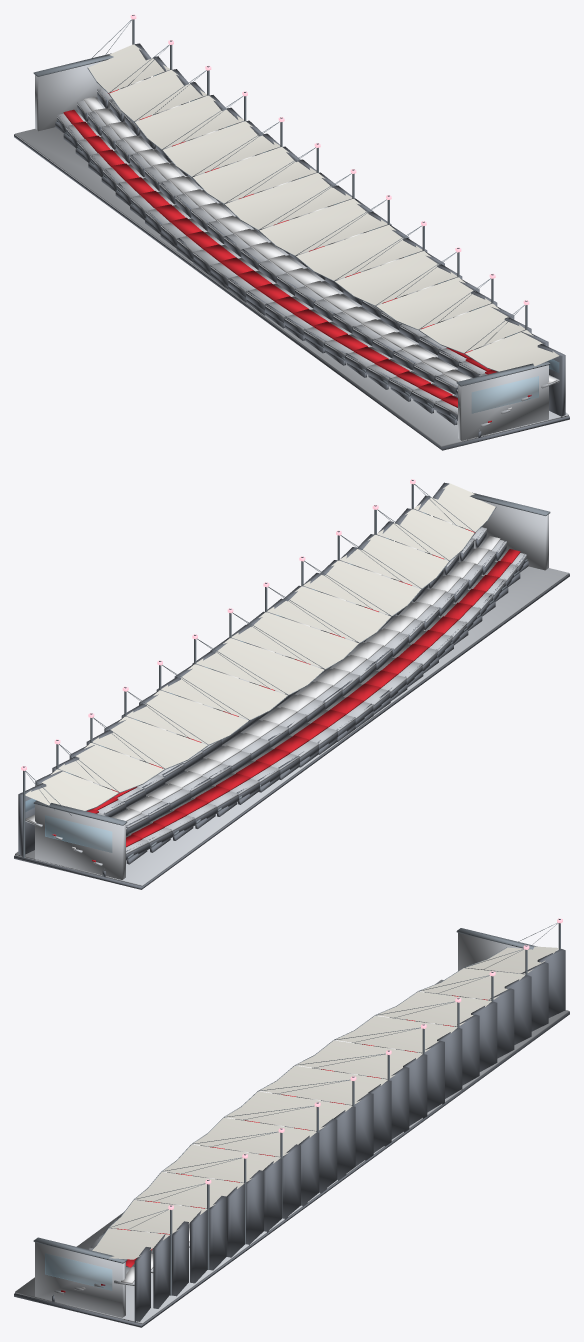
File: luffield_arena_grandstand.glb
3 views of the same model, one above another, from view 1: azimuth 30°, elevation 25°; view 2: azimuth 150°, elevation 25°; view 3: azimuth 330°, elevation 25° (orthographic).
Visible parts, largest first — view 1: Surface_roof, Surface_concrete, Surface_concrete_dark, Surface_seat_a, Surface_seat_b, Surface_steel, Surface_glass; view 2: Surface_roof, Surface_concrete, Surface_concrete_dark, Surface_seat_a, Surface_seat_b, Surface_steel, Surface_glass; view 3: Surface_concrete_dark, Surface_roof, Surface_concrete, Surface_steel, Surface_glass.
Part boxes in pixels (<box>): Surface_roof: <box>88,44,559,371</box>; Surface_concrete: <box>15,61,568,446</box>; Surface_concrete_dark: <box>14,43,569,450</box>; Surface_seat_a: <box>63,89,531,422</box>; Surface_seat_b: <box>83,80,557,409</box>; Surface_steel: <box>33,15,550,431</box>; Surface_glass: <box>154,73,558,413</box>; Surface_roof: <box>25,483,495,810</box>; Surface_concrete: <box>15,500,568,886</box>; Surface_concrete_dark: <box>14,482,569,889</box>; Surface_seat_a: <box>52,528,520,862</box>; Surface_seat_b: <box>26,520,500,849</box>; Surface_steel: <box>23,480,550,870</box>; Surface_glass: <box>25,512,428,852</box>; Surface_concrete_dark: <box>14,949,569,1327</box>; Surface_roof: <box>92,946,558,1259</box>; Surface_concrete: <box>15,932,568,1324</box>; Surface_steel: <box>33,919,560,1296</box>; Surface_glass: <box>45,1253,111,1290</box>.
Bounding box in the file's own units: 38.14 × 26.8 × 221.
